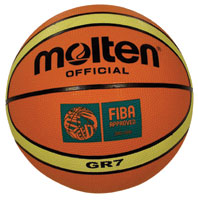basketball: (5, 5, 193, 194)
